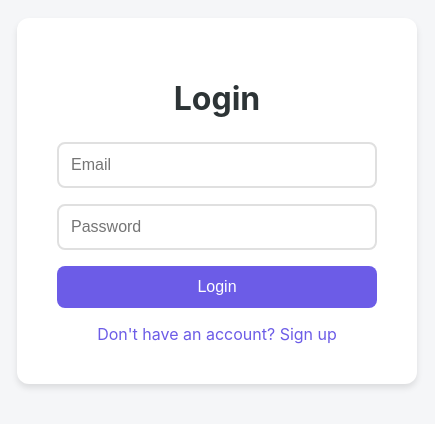
Login Component › displays error message on failed login
Type "wrong@example.com" into the field with placeholder "Email" at (217, 165), box [57, 142, 377, 188]
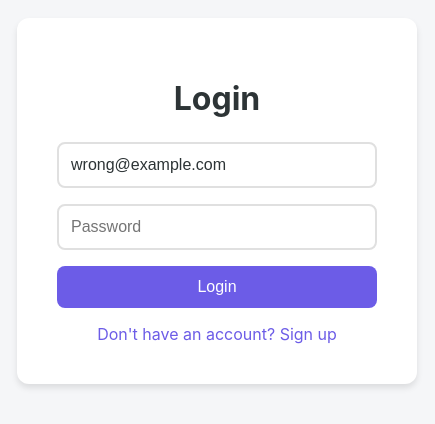
Type "wrongpassword" into the password field with placeholder "Password" at (217, 227), box [57, 204, 377, 250]
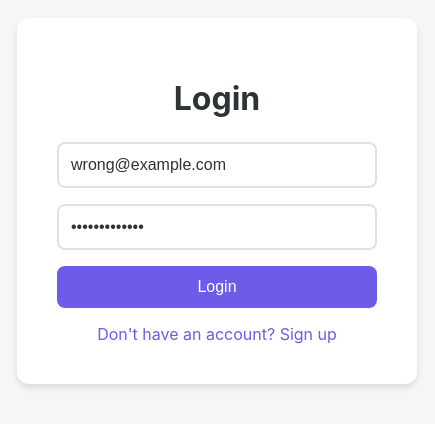
Click the button "Login" at (217, 287), box [57, 266, 377, 308]
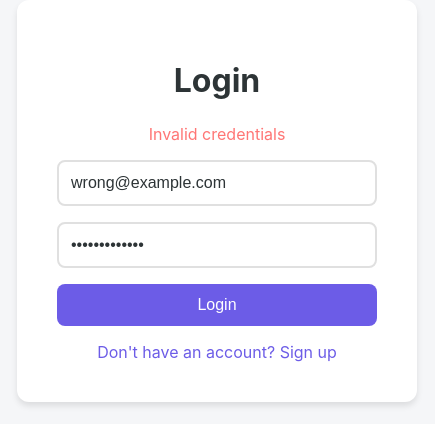
expect the text "Invalid credentials" is shown: met, box [149, 124, 285, 144]
